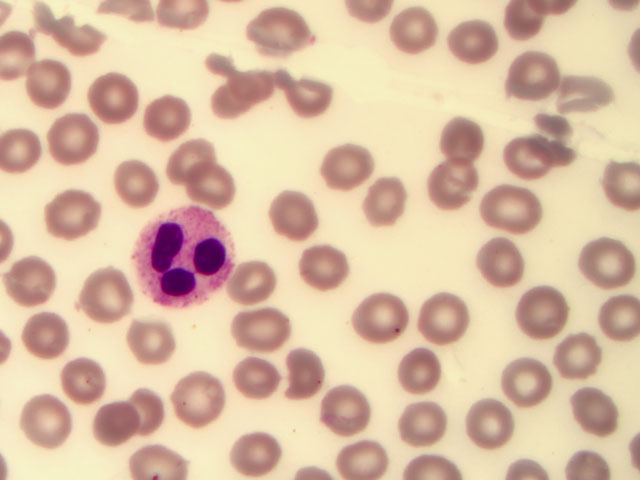RBC: (26, 57, 75, 106), (92, 76, 141, 125), (48, 113, 97, 162), (1, 128, 50, 177), (106, 152, 155, 201), (52, 190, 101, 239), (9, 258, 58, 307), (19, 310, 68, 359), (79, 269, 128, 318), (121, 318, 170, 367), (61, 351, 110, 400), (21, 399, 70, 448), (84, 400, 133, 449), (124, 385, 173, 434), (181, 376, 230, 425), (130, 431, 179, 480), (231, 431, 280, 480), (233, 352, 282, 401), (233, 310, 282, 359), (232, 260, 281, 309), (270, 191, 319, 240), (191, 164, 240, 213), (172, 140, 221, 189), (149, 98, 198, 147), (200, 82, 249, 131), (231, 60, 280, 109), (287, 75, 336, 124), (257, 8, 306, 57), (394, 6, 443, 55), (450, 18, 499, 67), (503, 51, 552, 100), (557, 71, 606, 120), (506, 134, 555, 183), (437, 114, 486, 163), (426, 160, 475, 209), (365, 179, 414, 228), (328, 147, 377, 196), (487, 182, 536, 231), (476, 238, 525, 287), (417, 292, 466, 341), (360, 294, 409, 343), (298, 244, 347, 293), (289, 350, 338, 399), (320, 382, 369, 431), (399, 344, 448, 393), (398, 397, 447, 446), (335, 431, 384, 480), (469, 400, 518, 449), (502, 358, 551, 407), (549, 332, 598, 381), (520, 290, 569, 339), (582, 240, 631, 289), (591, 290, 640, 339), (571, 384, 620, 433), (499, 1, 548, 49), (559, 447, 613, 480)
WBC: (133, 208, 241, 307)
